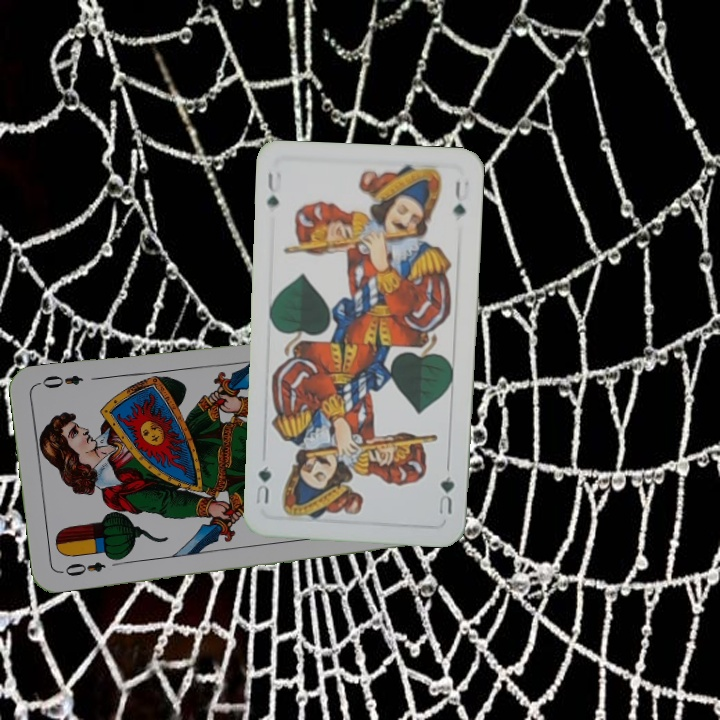EO: (56, 558, 108, 579)
GU: (435, 472, 457, 518), (263, 167, 281, 211)
